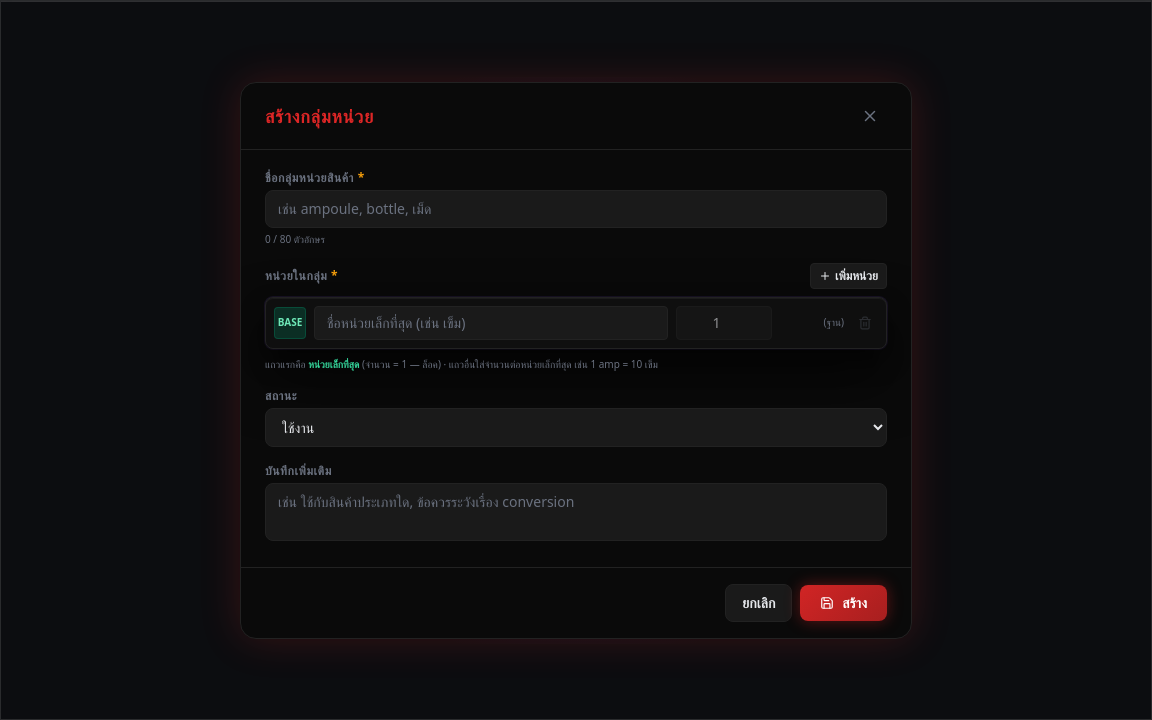
ProductUnitFormModal — PUM1..PUM10 › PUM4: remove unit row removes that row (but keeps row 0)
Click the button "เพิ่มหน่วย" at (848, 276), box [810, 262, 887, 288]
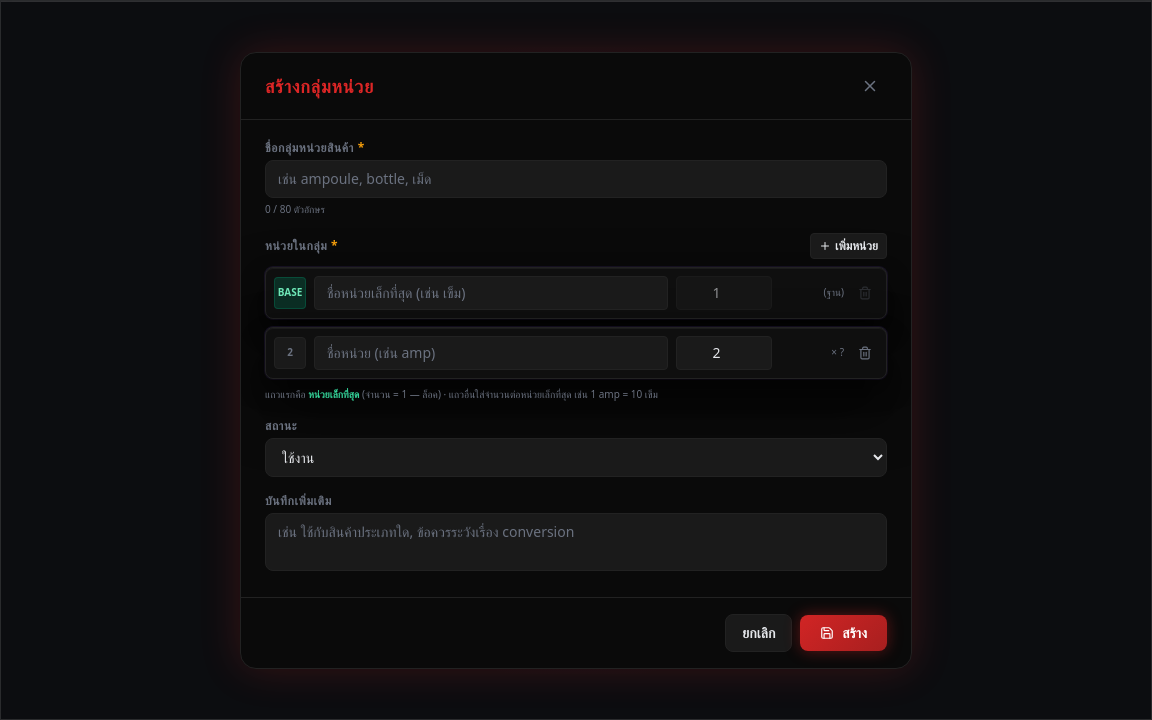
Click the button named "ลบหน่วยแถว 2" at (865, 352), box [852, 340, 878, 366]
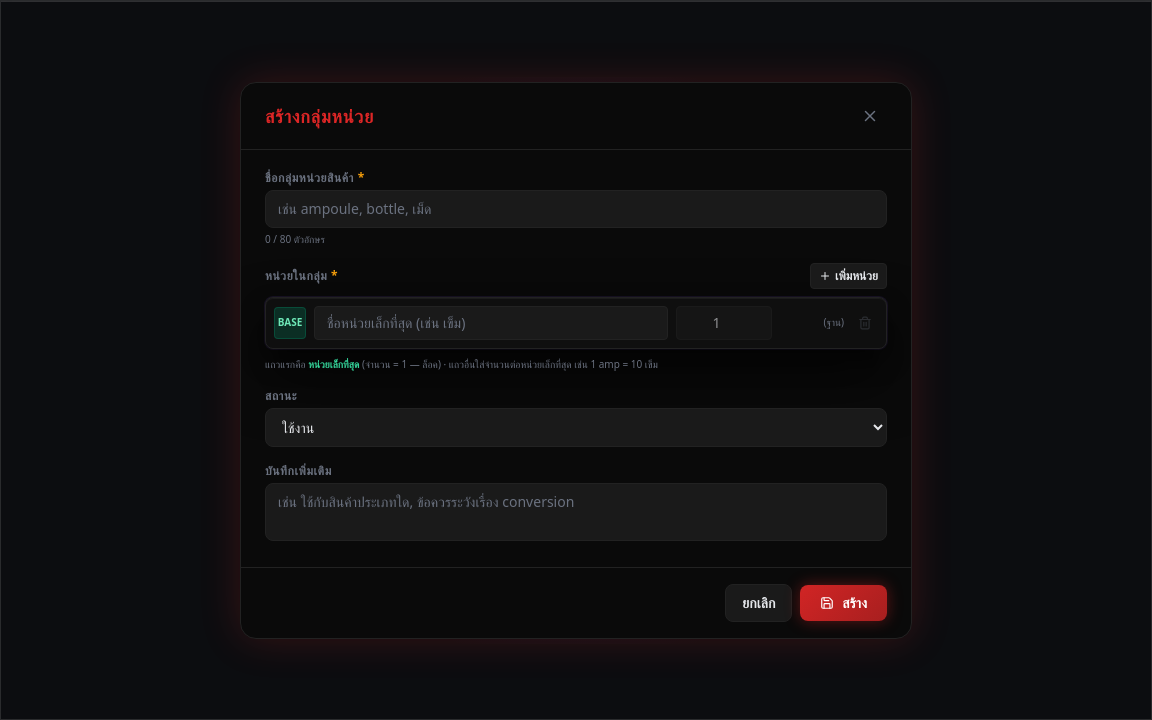
Expected: the button named "ลบหน่วยแถว 1" is disabled, [852, 310, 878, 336]
Expected: the number of fields with placeholder "ชื่อหน่วยเล็กที่สุด (เช่น เข็ม)" is 1, [314, 306, 668, 340]
